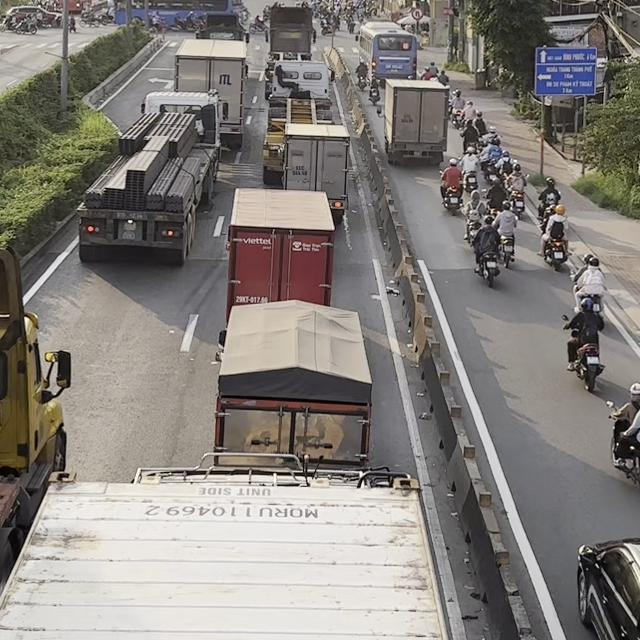bus: (355, 20, 417, 82)
car: (576, 536, 639, 639)
motorcycle: (561, 314, 605, 392), (605, 400, 639, 489), (569, 270, 606, 314), (473, 236, 501, 287), (507, 173, 532, 219), (439, 170, 463, 215), (540, 234, 569, 271), (459, 203, 483, 245), (497, 231, 515, 268), (462, 169, 478, 192), (368, 84, 380, 104), (451, 109, 463, 128), (356, 75, 367, 90)
truck: (0, 451, 448, 640), (212, 298, 373, 469), (0, 243, 71, 619), (76, 90, 221, 265), (223, 187, 336, 328), (262, 59, 336, 185), (172, 37, 249, 150), (281, 122, 350, 222), (377, 78, 451, 166), (264, 7, 318, 100)
